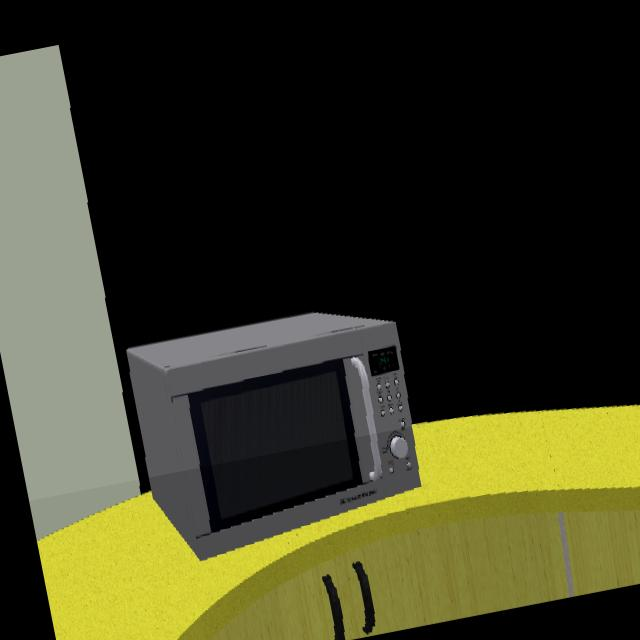cabinet: (179, 413, 640, 640)
countertop: (39, 408, 640, 640)
microwave: (123, 312, 423, 563)
